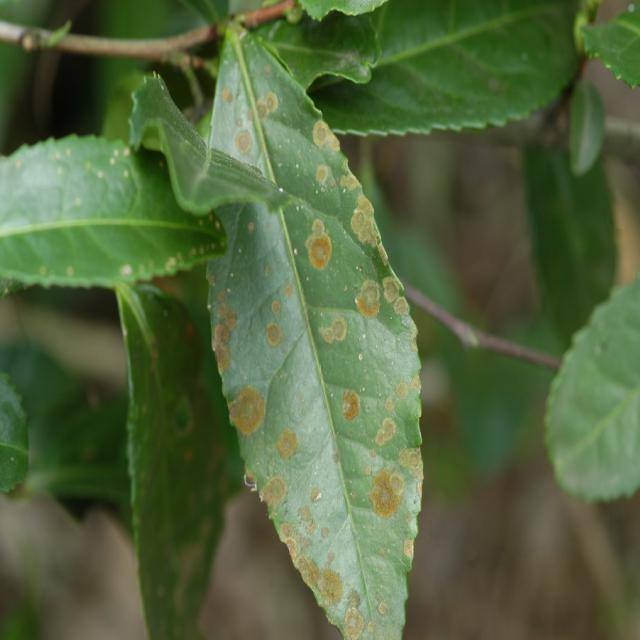Tea algae leaf spot: (176, 121, 440, 614)
